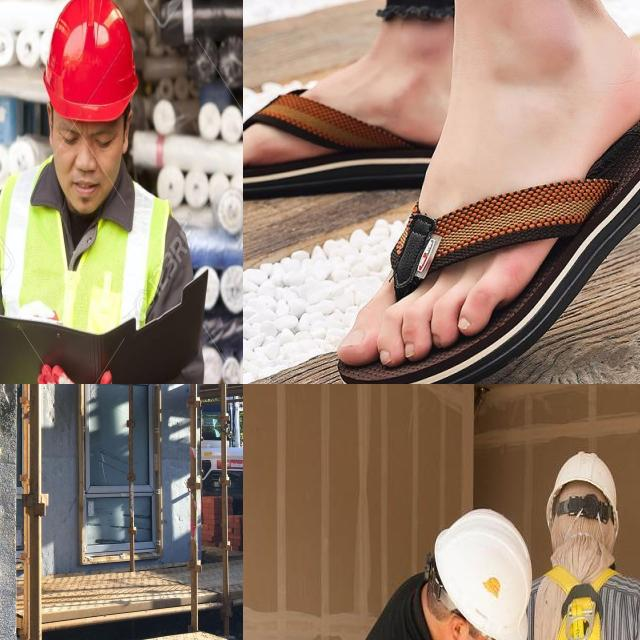Harness: (547, 566, 617, 640)
No_Glasses: (55, 119, 124, 161)
Sandals: (243, 80, 452, 203)
face_nomask: (48, 105, 130, 215)
hand_glove: (37, 359, 124, 384)
head_helmet: (39, 0, 136, 120)
person: (0, 0, 196, 384)
vest: (0, 167, 168, 384)
